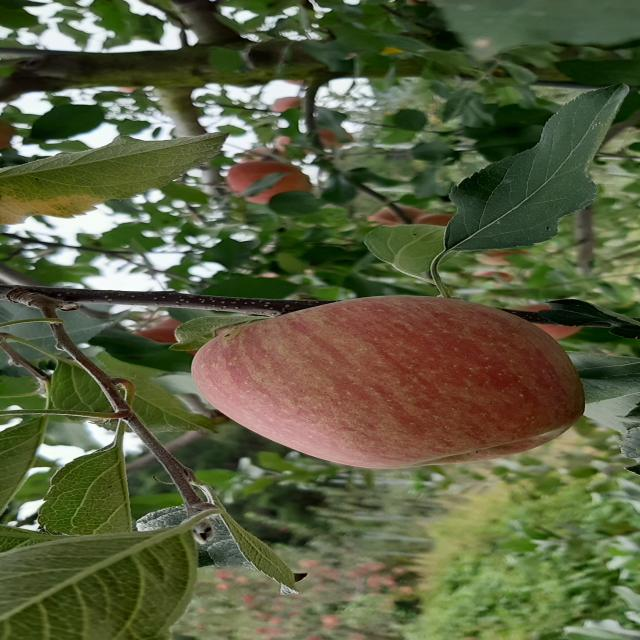fresh: (165, 286, 603, 480)
